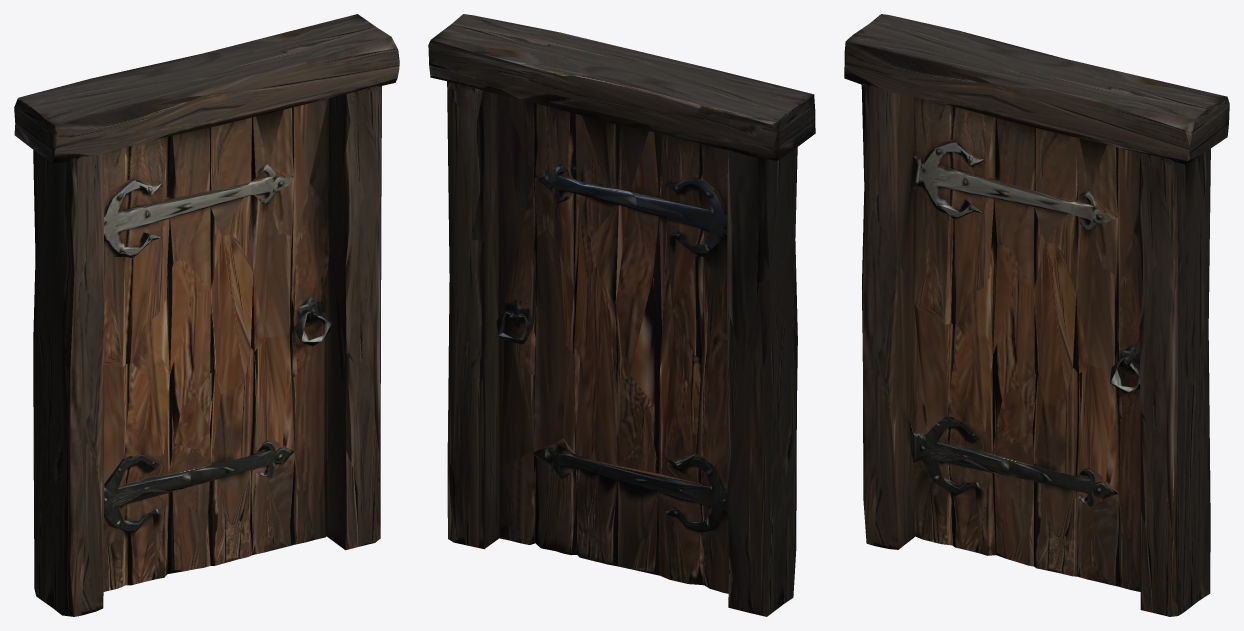
Rendered from Door.glb.
The picture shows the model from 3 angles, left to right: view 1: azimuth 30°, elevation 25°; view 2: azimuth 150°, elevation 25°; view 3: azimuth 330°, elevation 25°; orthographic projection.
Visible parts, largest first — view 1: Door; view 2: Door; view 3: Door.
Boxes of the visible parts, left/top/right/bottom form: Door: left=14, top=14, right=399, bottom=616; Door: left=428, top=14, right=815, bottom=616; Door: left=844, top=14, right=1229, bottom=616.
Size of the model in its own units: 1.53 by 2.1 by 0.3116.
Materials: 1 (1 with a texture image).
